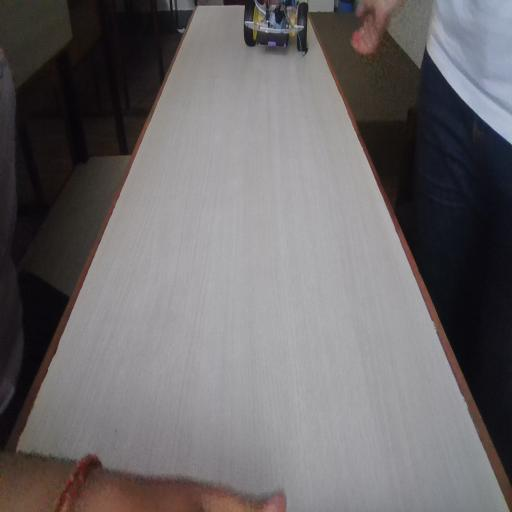car: (242, 0, 317, 48)
